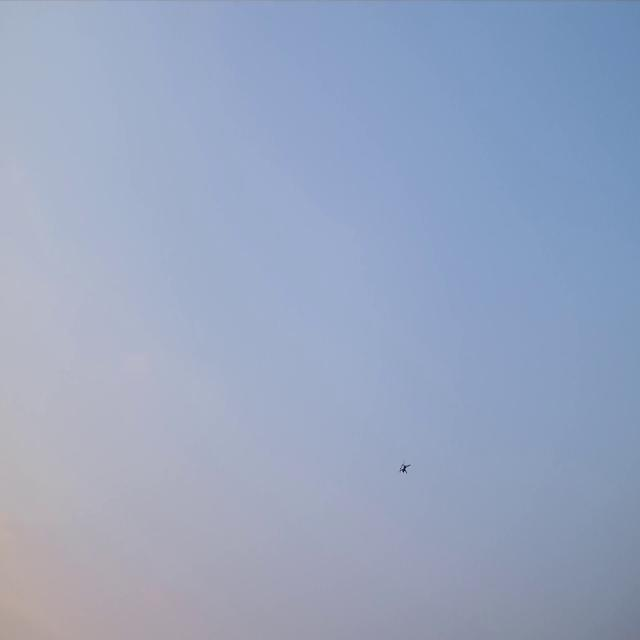UAV: (400, 464, 408, 472)
